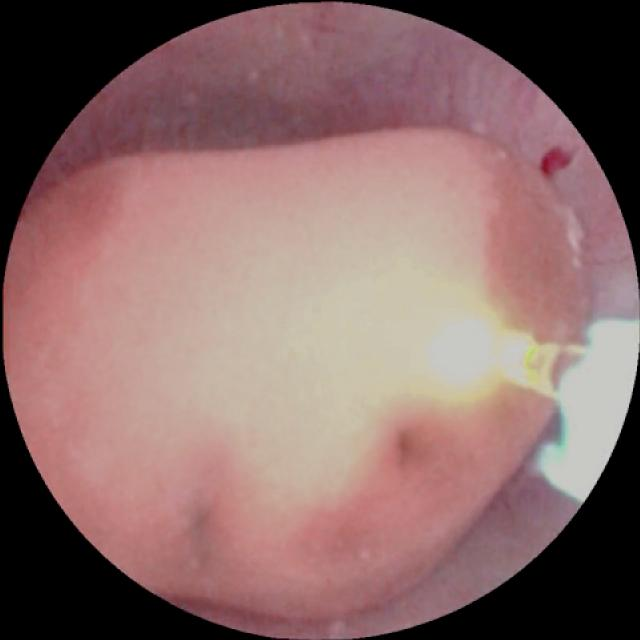stone: (21, 130, 589, 614)
